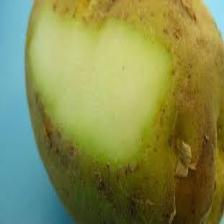Defected potato: (25, 0, 224, 223)
